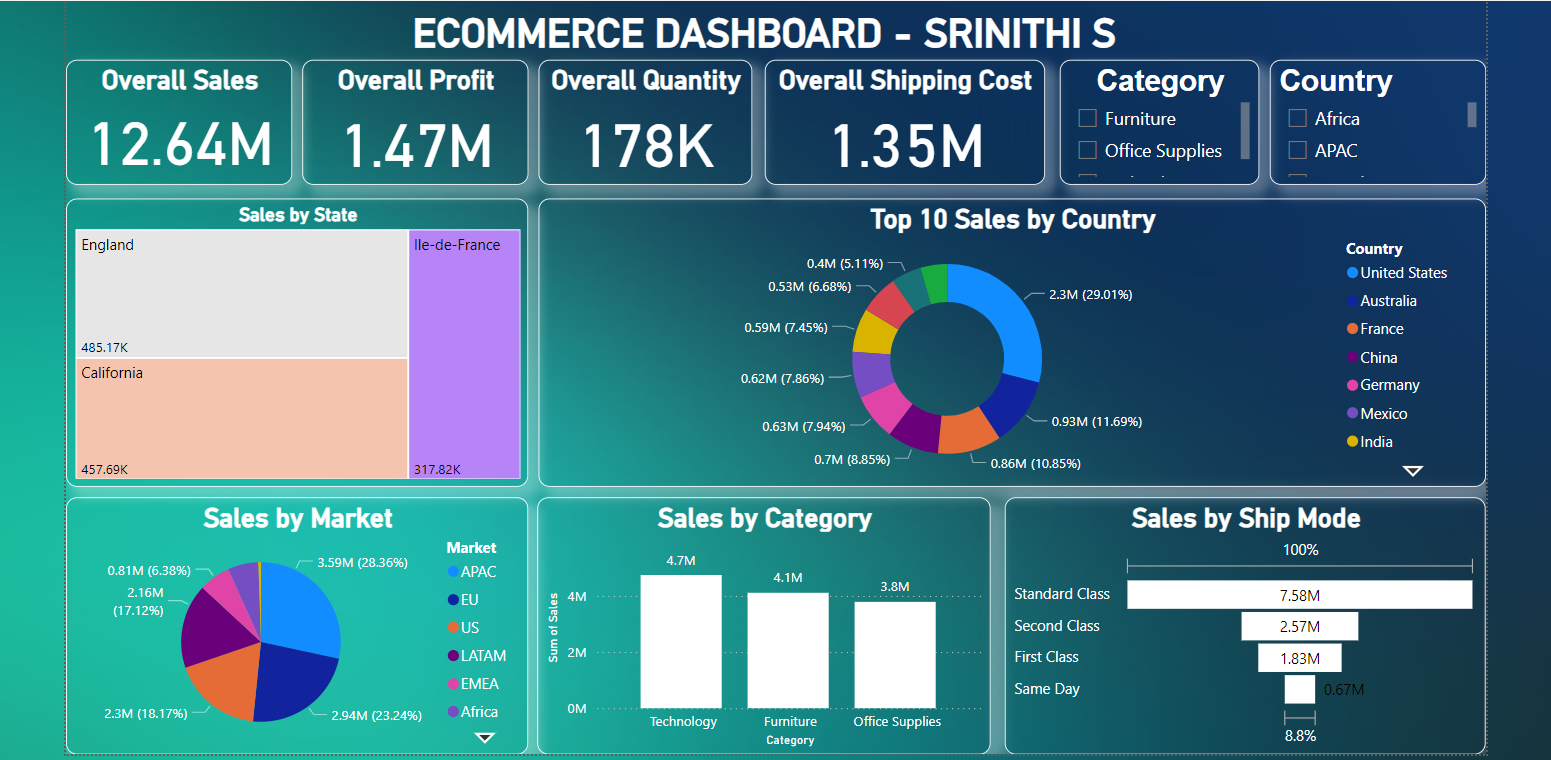

The page's visual inventory and layout, read from the dashboard file:
{"tool":"powerbi","page":{"name":"Page 1","canvas":[1280,720],"ordinal":0},"visuals":[{"type":"columnChart","title":"Sales by Category","fields":{"Category":["Orders.Category"],"Y":["Orders.Sales"]},"box":[425,456.2,421.2,263.8],"z":0},{"type":"pieChart","title":"Sales by Market","fields":{"Category":["Orders.Market"],"Y":["Orders.Sales"]},"box":[0,456.2,425,263.8],"z":1000},{"type":"funnel","title":"Sales by Ship Mode","fields":{"Category":["Orders.Ship Mode"],"Y":["Orders.Sales"]},"box":[846.2,456.2,433.8,263.8],"z":2000},{"type":"donutChart","title":"Top 10 Sales by Country","fields":{"Category":["Orders.Country"],"Y":["Orders.Sales"]},"box":[425,183.8,855,272.5],"z":3000},{"type":"treemap","title":"Sales by State","fields":{"Values":["Orders.Sales"],"Group":["Orders.State"]},"box":[0,183.8,425,272.5],"z":4000},{"type":"card","title":"Overall Sales","fields":{"Values":["Orders.Sales"]},"box":[0,71.2,212.5,112.5],"z":5000},{"type":"card","title":"Overall Profit","fields":{"Values":["Orders.Profit"]},"box":[212.5,71.2,213.8,112.5],"z":6000},{"type":"card","title":"Overall Quantity","fields":{"Values":["Orders.Quantity"]},"box":[426.2,71.2,201.2,112.5],"z":7000},{"type":"card","title":"Overall Shipping Cost","fields":{"Values":["Orders.Shipping Cost"]},"box":[627.5,71.2,252.5,112.5],"z":8000},{"type":"slicer","fields":{"Values":["Orders.Category"]},"box":[880,71.2,188.8,112.5],"z":9000},{"type":"slicer","fields":{"Values":["Orders.Market"]},"box":[1063.8,71.2,216.2,112.5],"z":10000},{"type":"textbox","box":[132.5,0,1016.2,71.2],"z":10001}]}

Visuals, with their boxes on the page's 1280x720 design canvas (x1, y1, x2, y2). These are canvas units, not pixel positions in the 1551x760 screenshot, which may show the page scaled, cropped or inside an application window:
"Sales by Category" columnChart: bbox(425, 456, 846, 720)
"Sales by Market" pieChart: bbox(0, 456, 425, 720)
"Sales by Ship Mode" funnel: bbox(846, 456, 1280, 720)
"Top 10 Sales by Country" donutChart: bbox(425, 184, 1280, 456)
"Sales by State" treemap: bbox(0, 184, 425, 456)
"Overall Sales" card: bbox(0, 71, 212, 184)
"Overall Profit" card: bbox(212, 71, 426, 184)
"Overall Quantity" card: bbox(426, 71, 627, 184)
"Overall Shipping Cost" card: bbox(628, 71, 880, 184)
slicer - Orders.Category: bbox(880, 71, 1069, 184)
slicer - Orders.Market: bbox(1064, 71, 1280, 184)
textbox: bbox(132, 0, 1149, 71)
